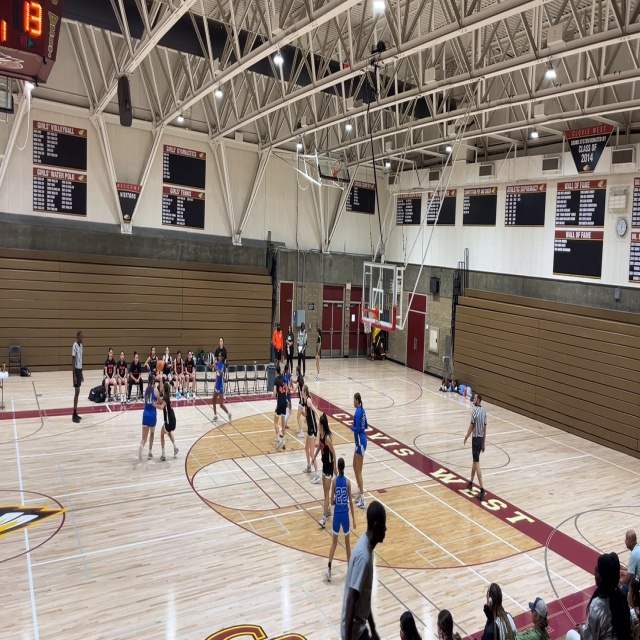Basketball: (156, 359, 164, 373)
